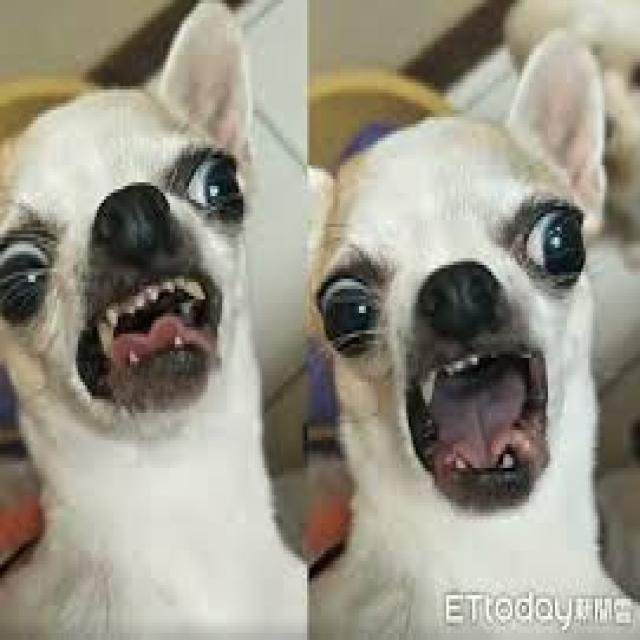dog: (310, 32, 640, 640), (2, 2, 309, 640)
